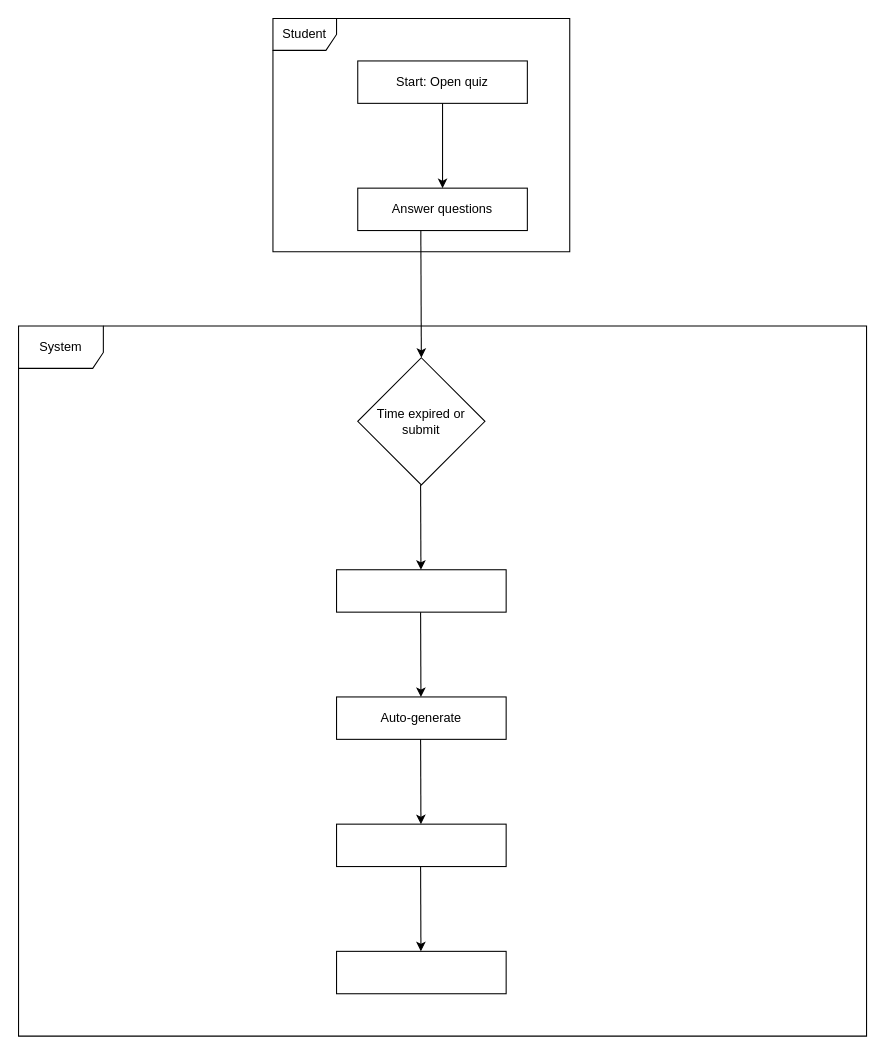
This 885x1055 diagram has some shape labels left out. The centre of each missing label's shape, as x and y in pixels:
Auto-submit: (x=420, y=590)
End: (x=420, y=972)
Show results + store score: (x=420, y=845)
